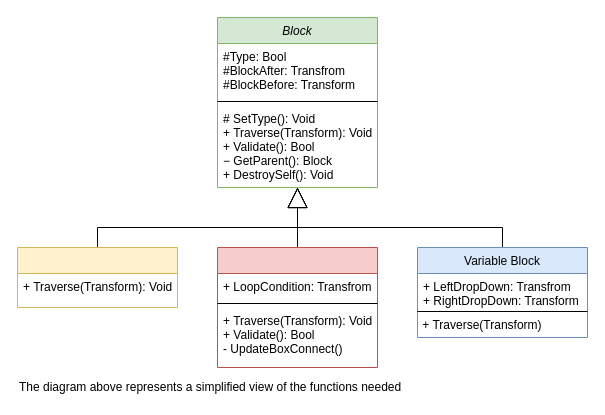
Some shapes in this 605 by 415 pixel diagram are drawn without their labels. The shapes that lost their labels are listed below. From the top down, each one's box as (x1, y1, x2, y2) in pixels, then its label:
(16, 246, 178, 308): Action Block
(216, 246, 378, 368): Loop Block
